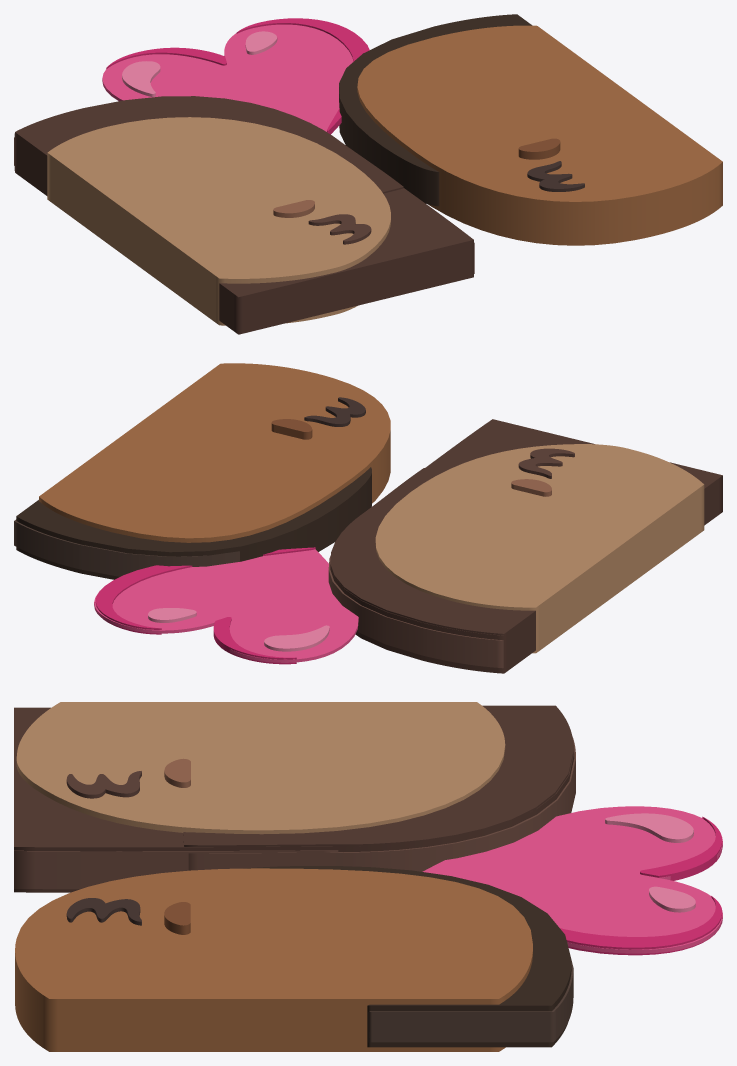
The model's file is emoji_u1f469_1f3fd_200d_2764_200d_1f48b_200d_1f468_1f3fe.glb.
The picture shows the model from 3 angles, top to bottom: view 1: azimuth 30°, elevation 25°; view 2: azimuth 150°, elevation 25°; view 3: azimuth 270°, elevation 25°; orthographic projection. The views are drawn at different scales.
Visible parts, largest first — view 1: emoji_u1f469_1f3fd_200d_2764_200d_1f48b_200d_1f468_1f3fe; view 2: emoji_u1f469_1f3fd_200d_2764_200d_1f48b_200d_1f468_1f3fe; view 3: emoji_u1f469_1f3fd_200d_2764_200d_1f48b_200d_1f468_1f3fe.
Boxes of the visible parts, box(x1,y1,x2,y2) form: emoji_u1f469_1f3fd_200d_2764_200d_1f48b_200d_1f468_1f3fe: box(14, 14, 722, 334); emoji_u1f469_1f3fd_200d_2764_200d_1f48b_200d_1f468_1f3fe: box(14, 363, 722, 673); emoji_u1f469_1f3fd_200d_2764_200d_1f48b_200d_1f468_1f3fe: box(14, 702, 722, 1051).
Bounding box in the file's own units: 0.0336 × 0.0038 × 0.0339.
